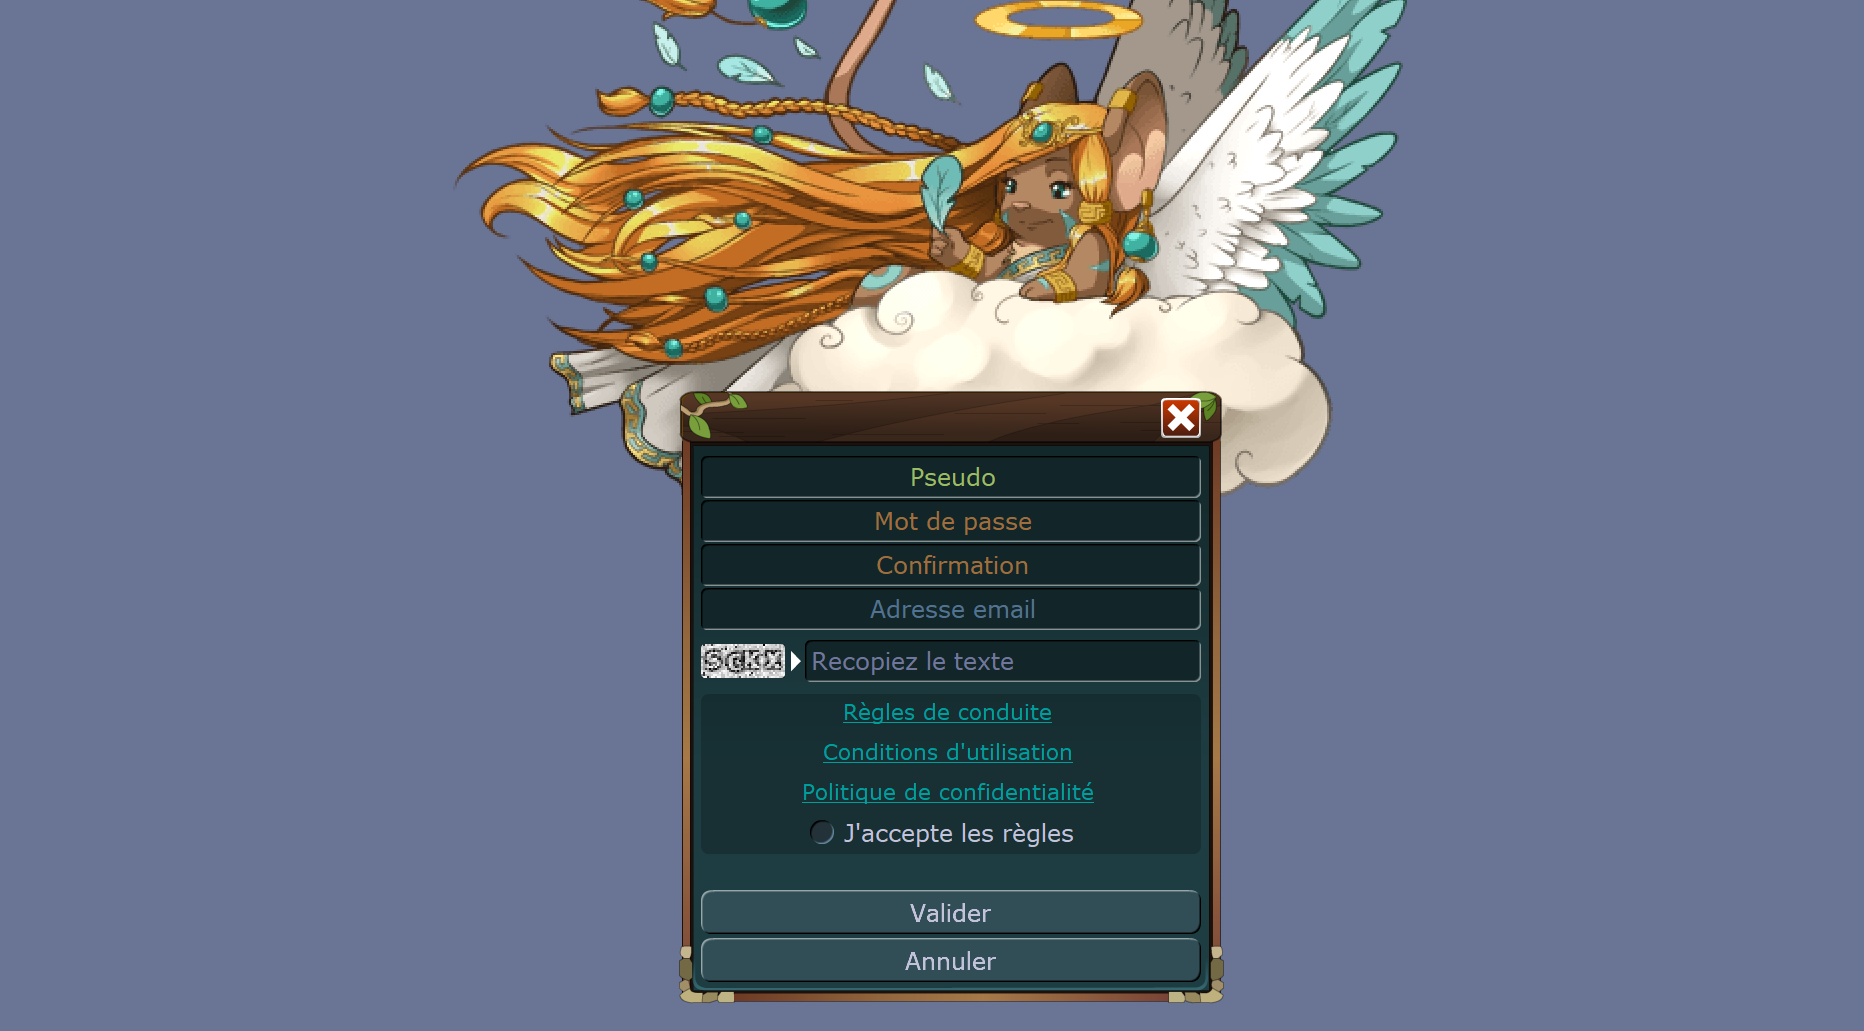CAPTCHA: (700, 642, 786, 679)
G: (725, 649, 743, 673)
K: (743, 648, 762, 670)
S: (703, 648, 724, 670)
X: (764, 648, 783, 673)
